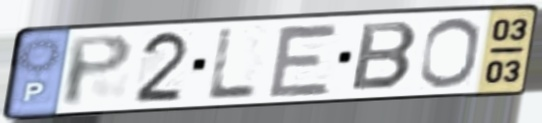2: (132, 28, 194, 107)
B: (347, 20, 421, 93)
E: (265, 22, 343, 99)
L: (203, 26, 260, 102)
O: (416, 14, 483, 90)
P: (60, 31, 137, 109)
